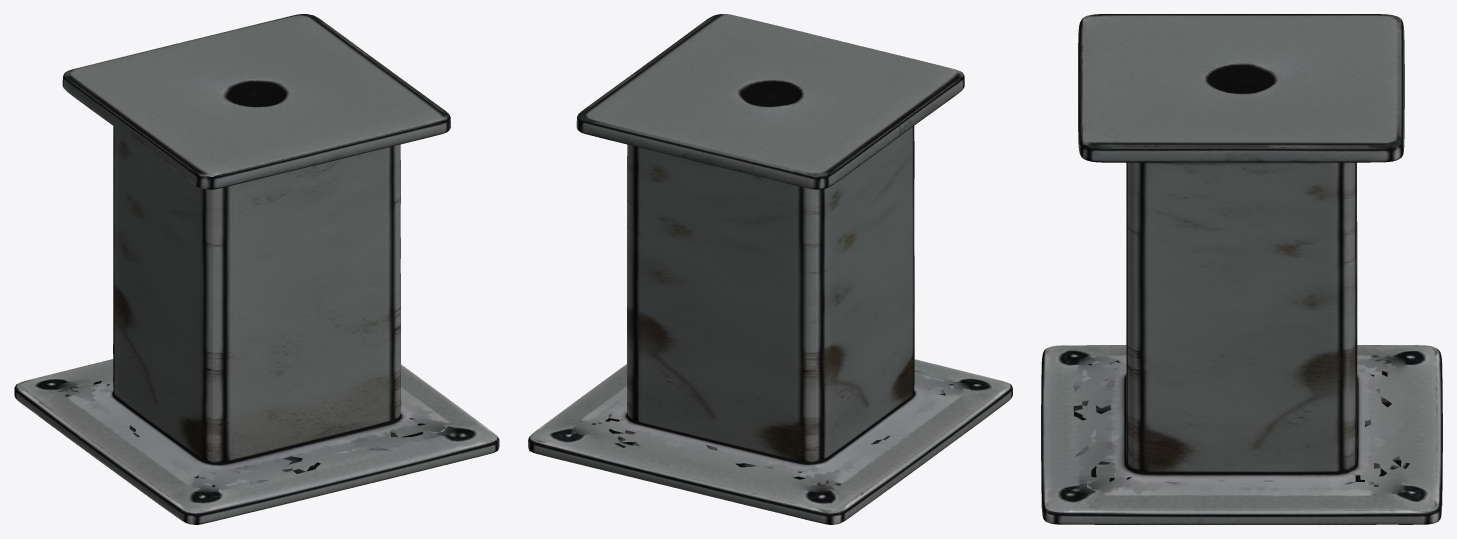
The model's file is pillar-steel.glb.
The picture shows the model from 3 angles, left to right: view 1: azimuth 30°, elevation 25°; view 2: azimuth 150°, elevation 25°; view 3: azimuth 270°, elevation 25°; orthographic projection. The views are drawn at different scales.
Visible parts, largest first — view 1: tmpoiz179s9.ply; view 2: tmpoiz179s9.ply; view 3: tmpoiz179s9.ply.
Boxes of the visible parts, box(x1,y1,x2,y2) form: tmpoiz179s9.ply: box(14, 14, 499, 524); tmpoiz179s9.ply: box(528, 14, 1012, 524); tmpoiz179s9.ply: box(1041, 14, 1442, 524).
Bounding box in the file's own units: 1 × 1 × 1.
1 material, 1 textured.
